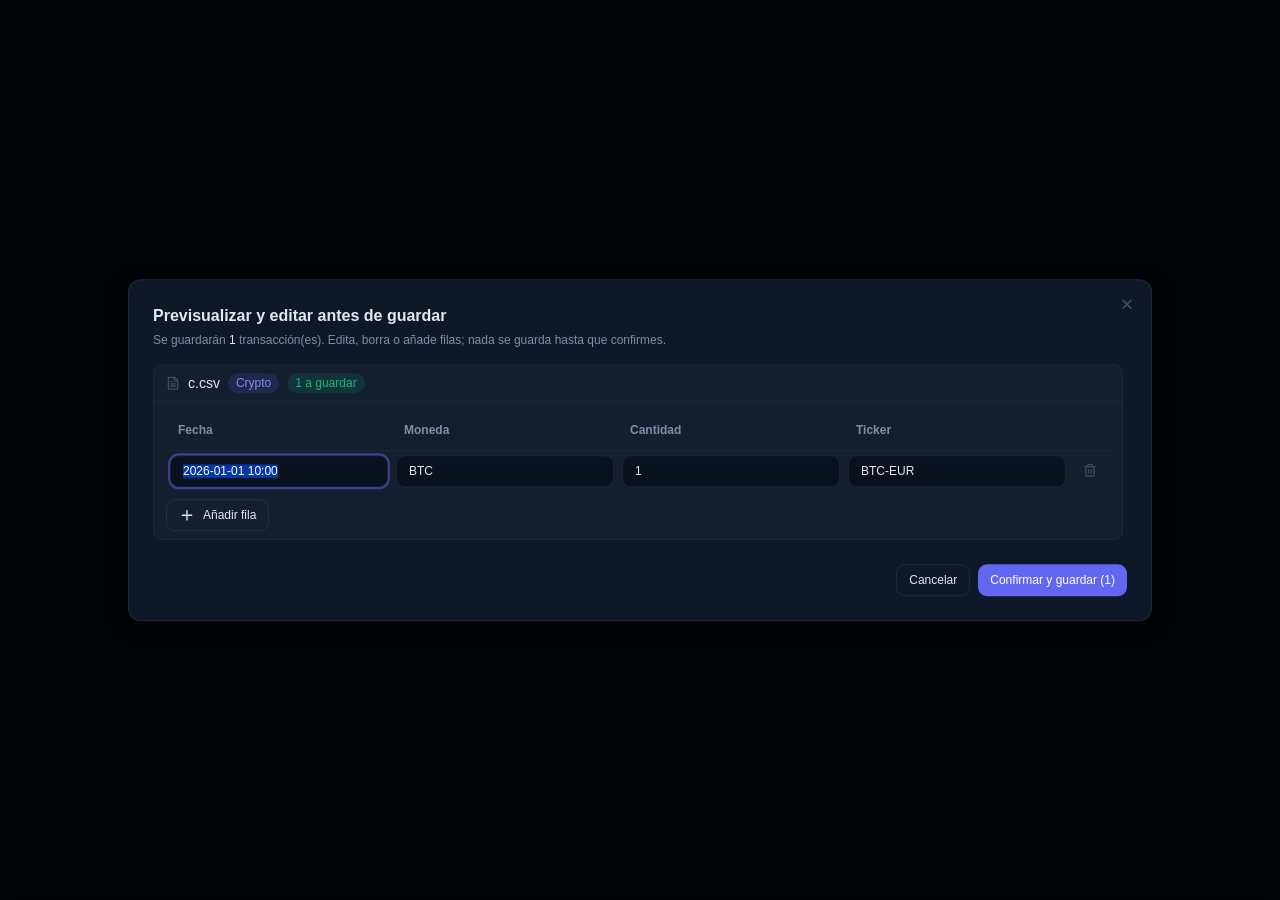
Scenario: ProcessPreviewDialog › rejects empty or zero crypto quantity
Step 1. Clear the field named "Cantidad fila 1" → (731, 471), box [622,455,840,487]
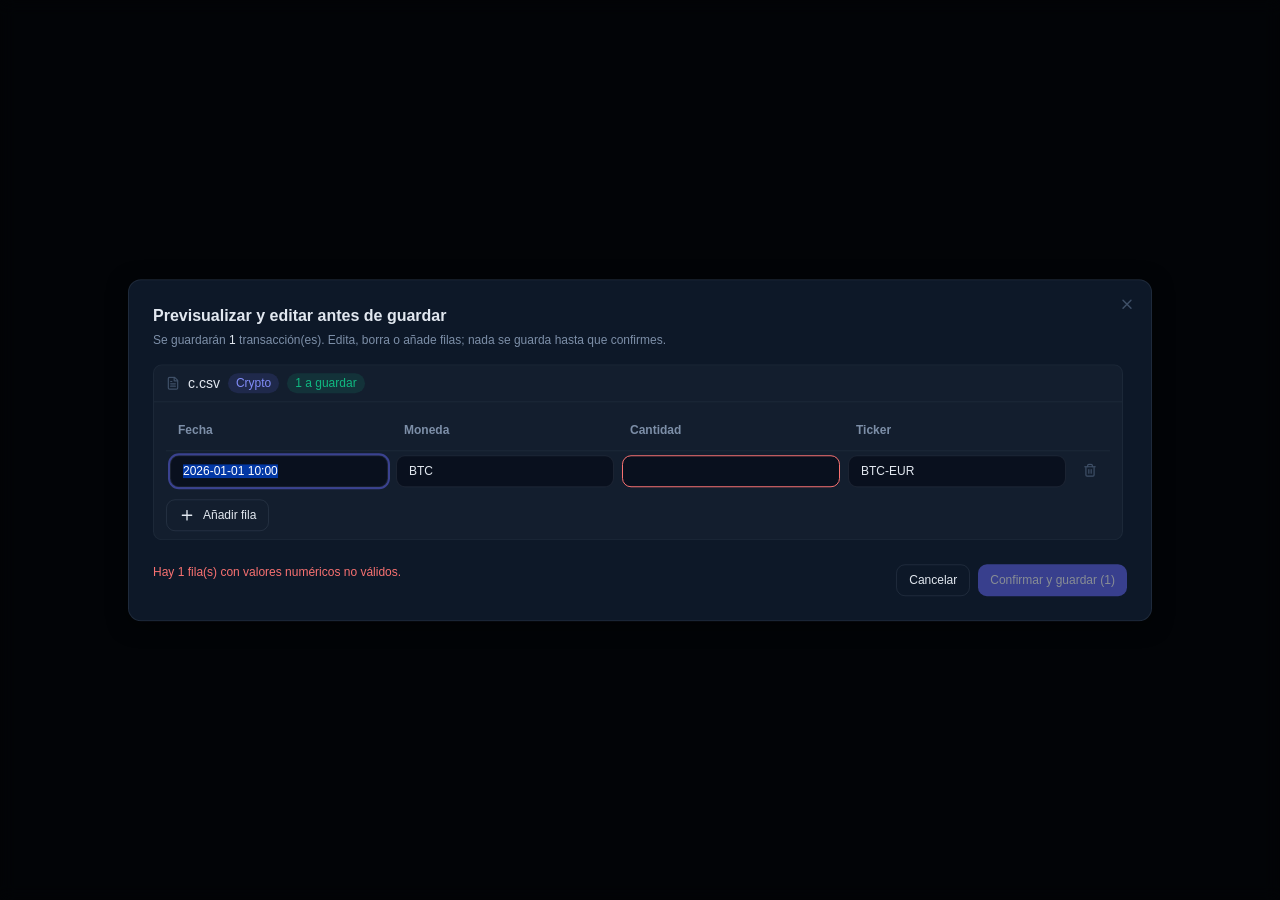
expect the button "Confirmar y guardar (1)" is disabled: met, box [978,564,1127,596]
Step 2. Type "0" into the field named "Cantidad fila 1" → (731, 471), box [622,455,840,487]
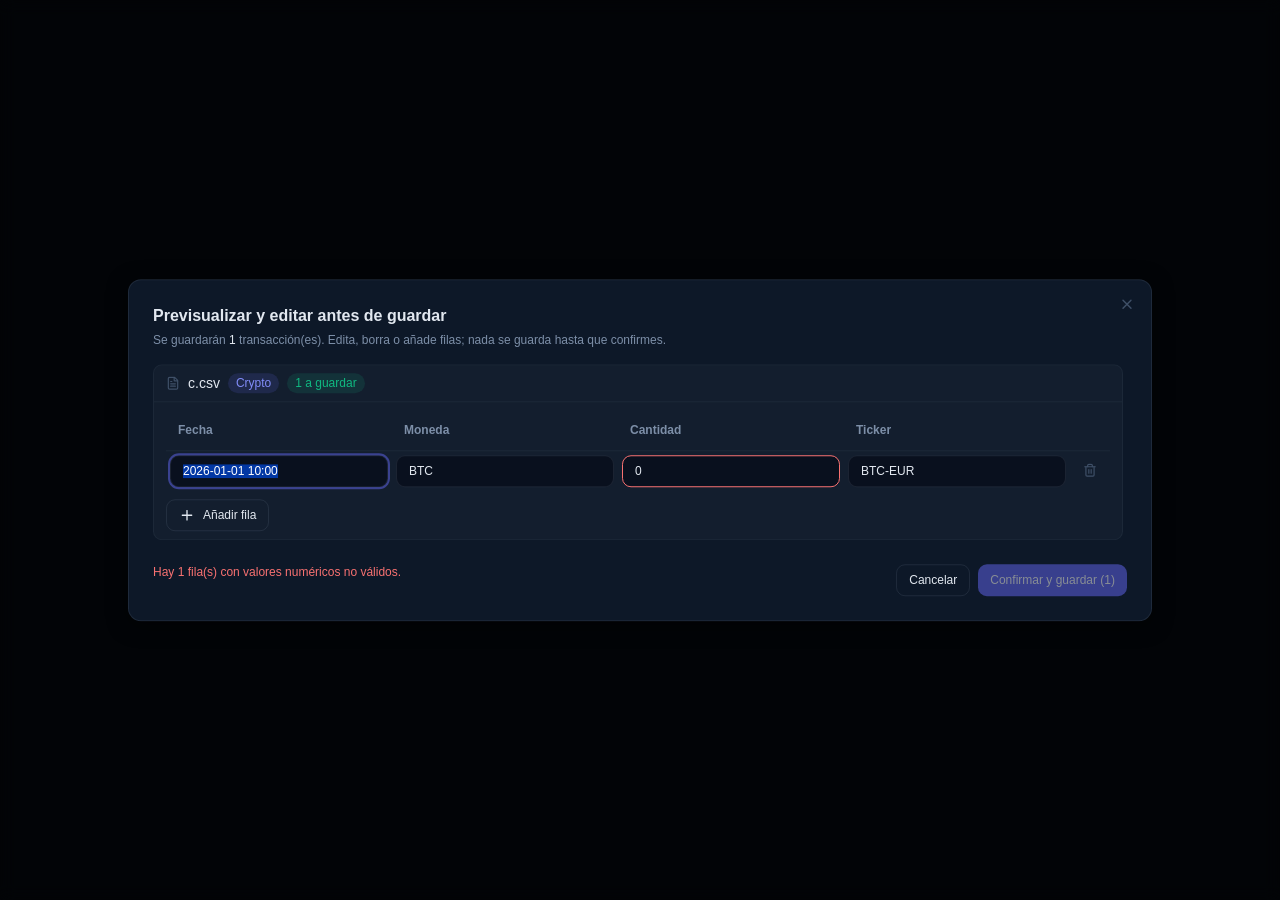
expect the button "Confirmar y guardar (1)" is disabled: met, box [978,564,1127,596]
Step 3. Replace the text in the field named "Cantidad fila 1" with "0,5" → (731, 471), box [622,455,840,487]
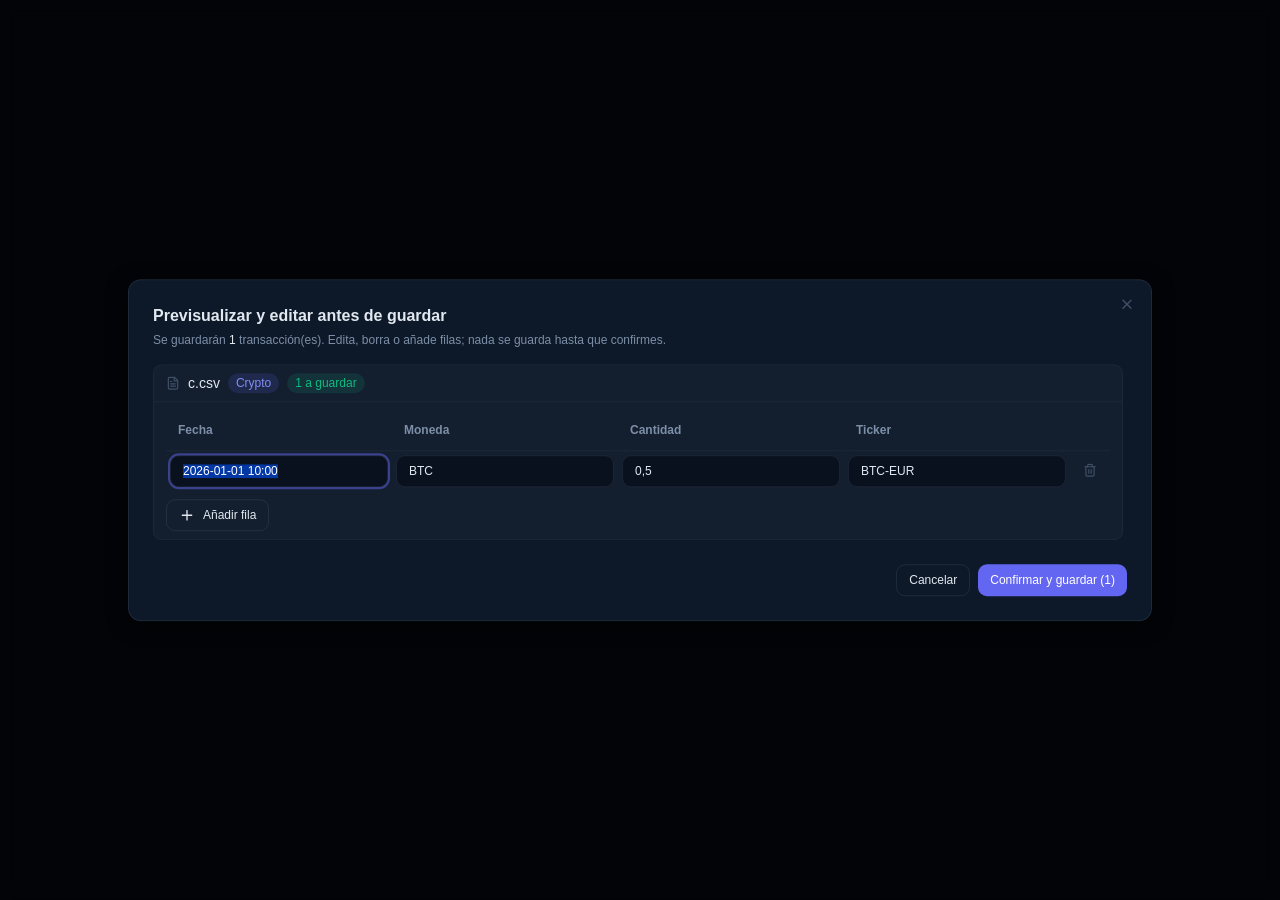
expect the button "Confirmar y guardar (1)" is enabled: met, box [978,564,1127,596]
